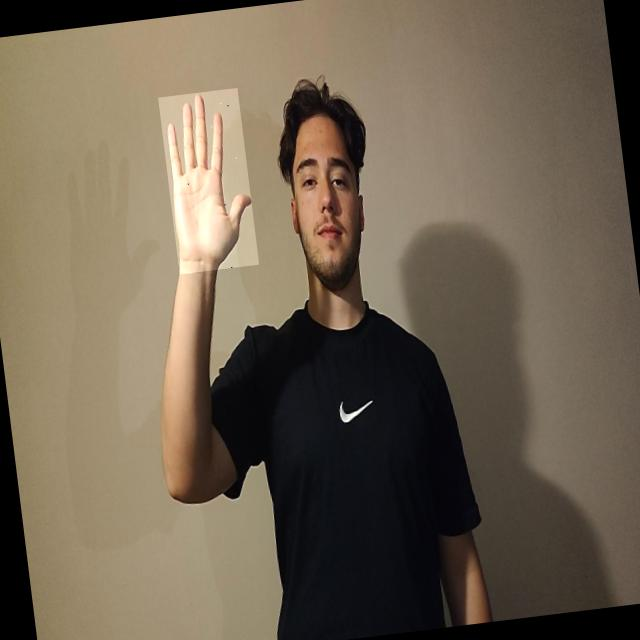hello: (158, 87, 259, 274)
